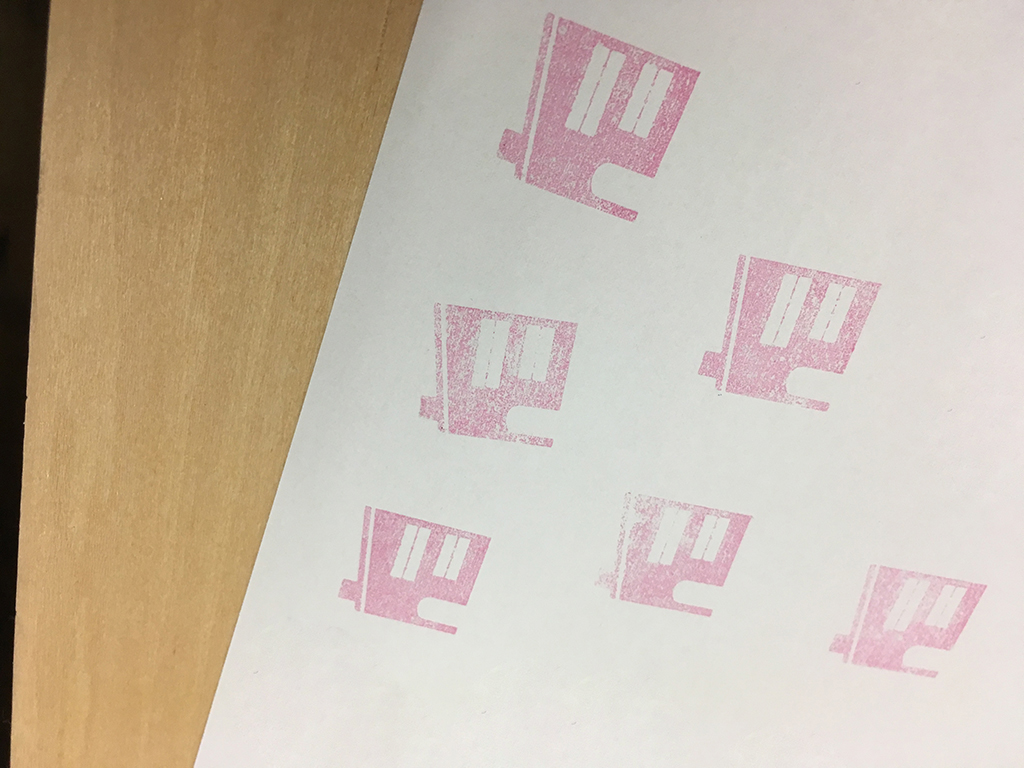house: (494, 9, 711, 232), (691, 240, 886, 419), (406, 289, 582, 457), (585, 479, 757, 634), (327, 496, 500, 642), (819, 550, 992, 690)
